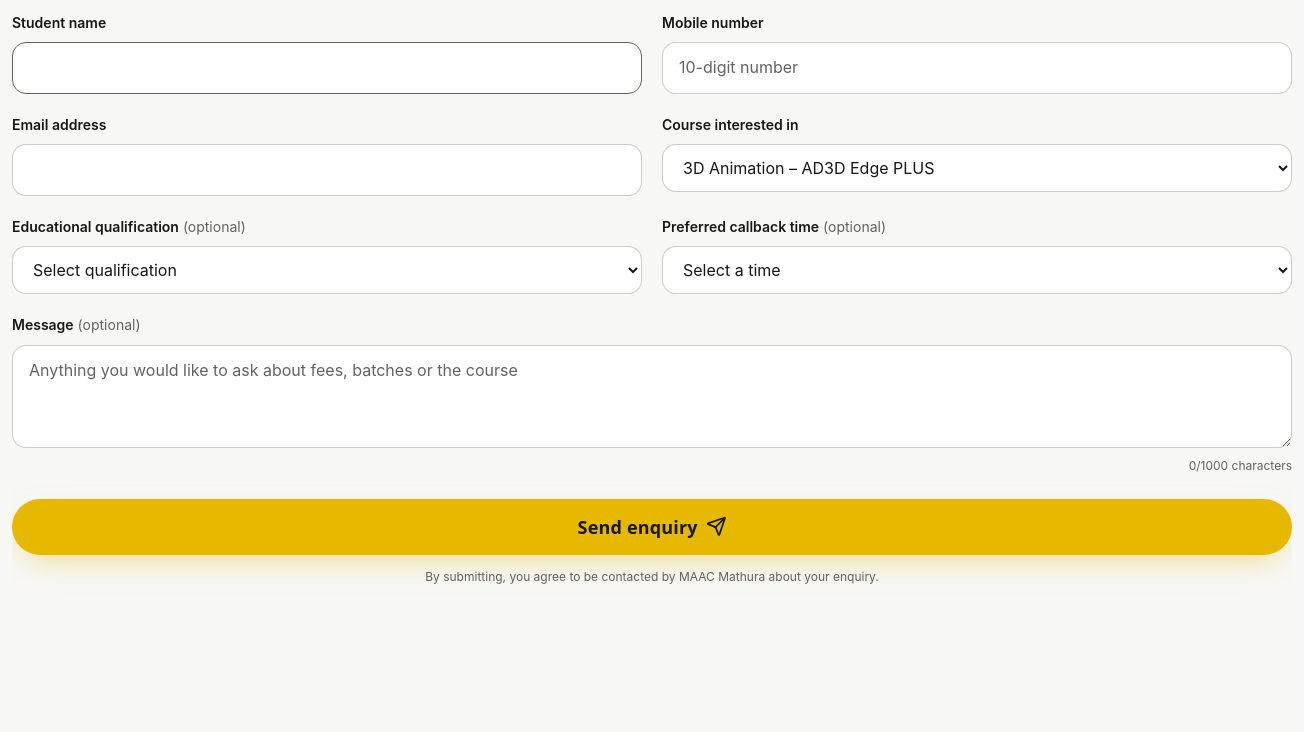
Test case: rejects an invalid mobile number and email before sending
The width and height of the screenshot is (1304, 732).
Type "Asha" into the field labelled "Student name" at coordinates (327, 68), box [12,42,642,94]
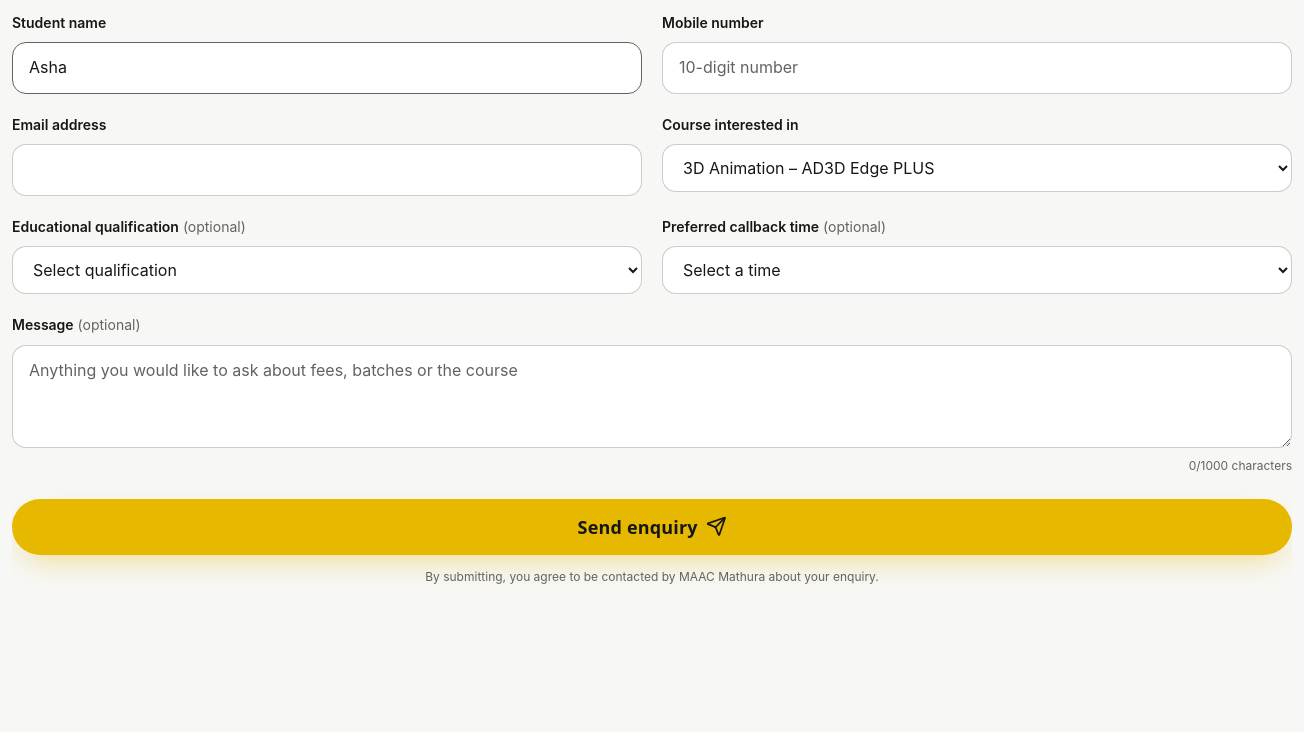
Type "12345" into the field labelled "Mobile number" at coordinates (977, 68), box [662,42,1292,94]
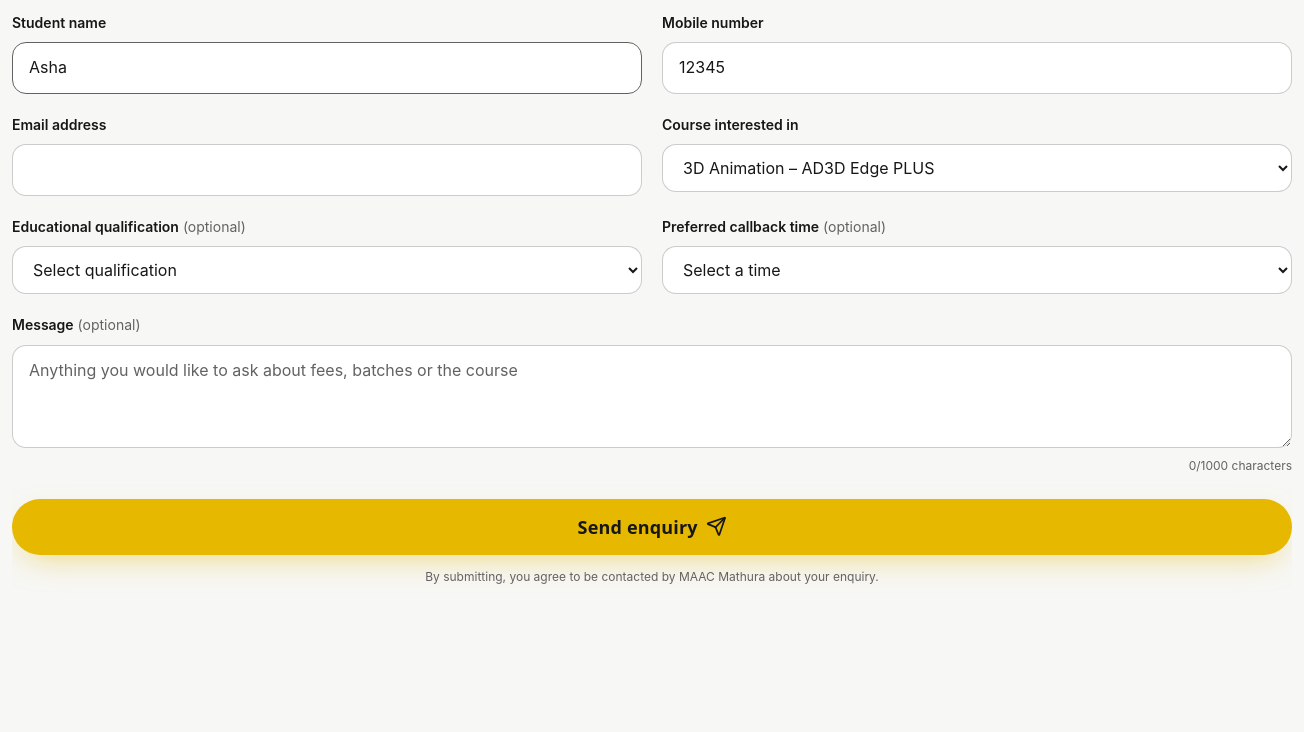
Type "asha@" into the field labelled "Email address" at coordinates (327, 170), box [12,144,642,196]
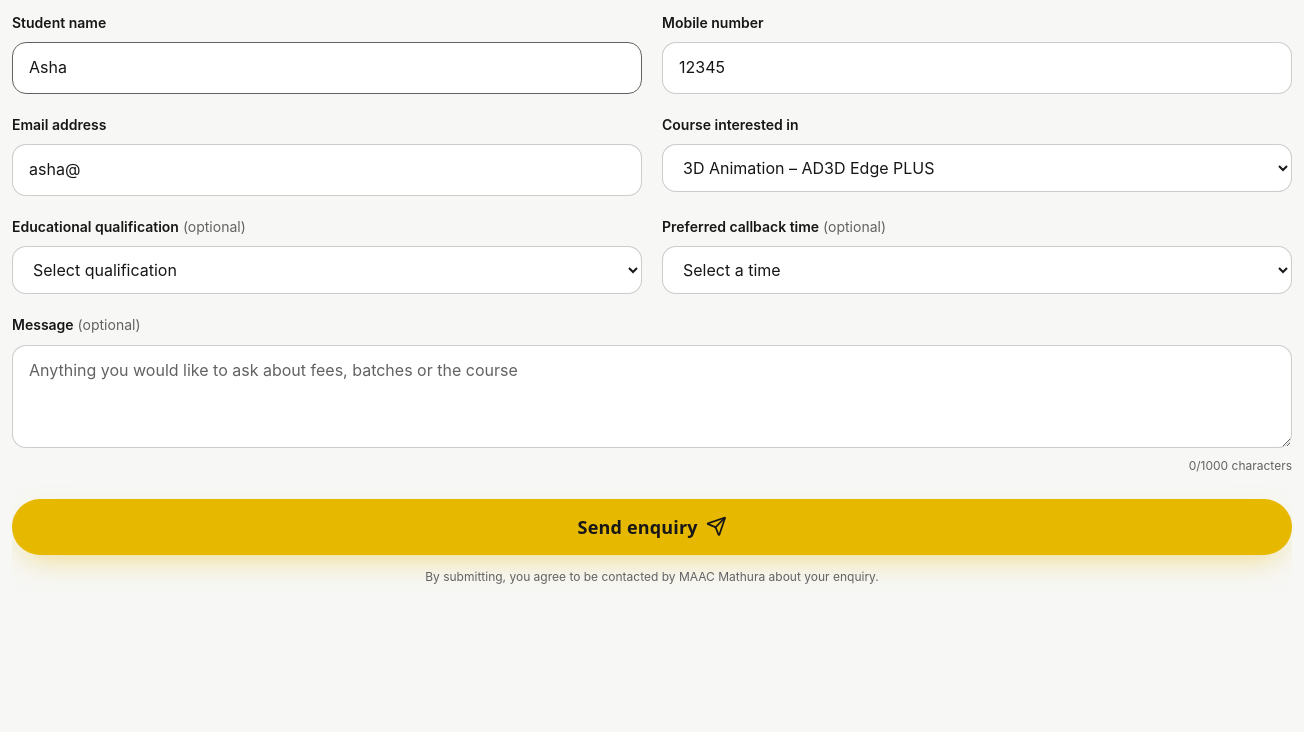
Click the button "Send enquiry" at coordinates (652, 527), box [12,499,1292,555]
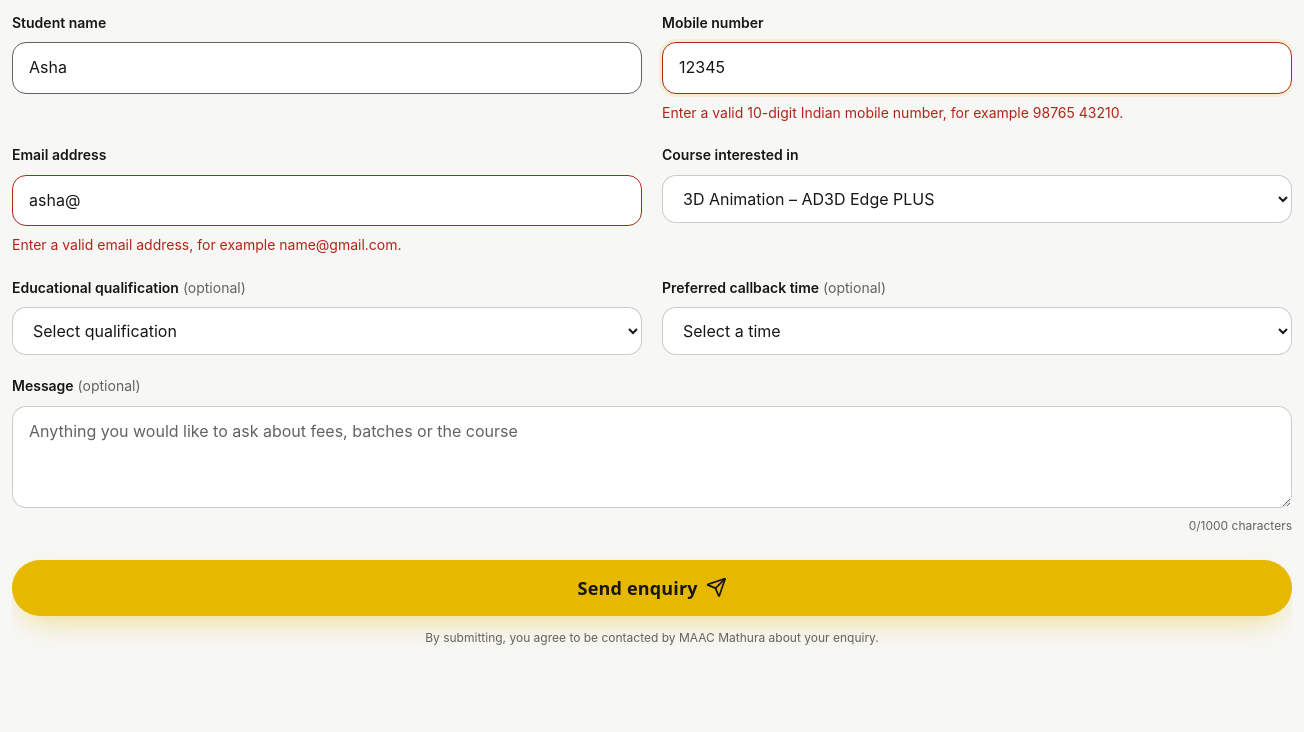
Now the text "valid 10-digit Indian mobile number" is shown, box [662,104,1123,121]
Now the text "Enter a valid email address, for example name@gmail.com." is shown, box [12,236,402,253]
